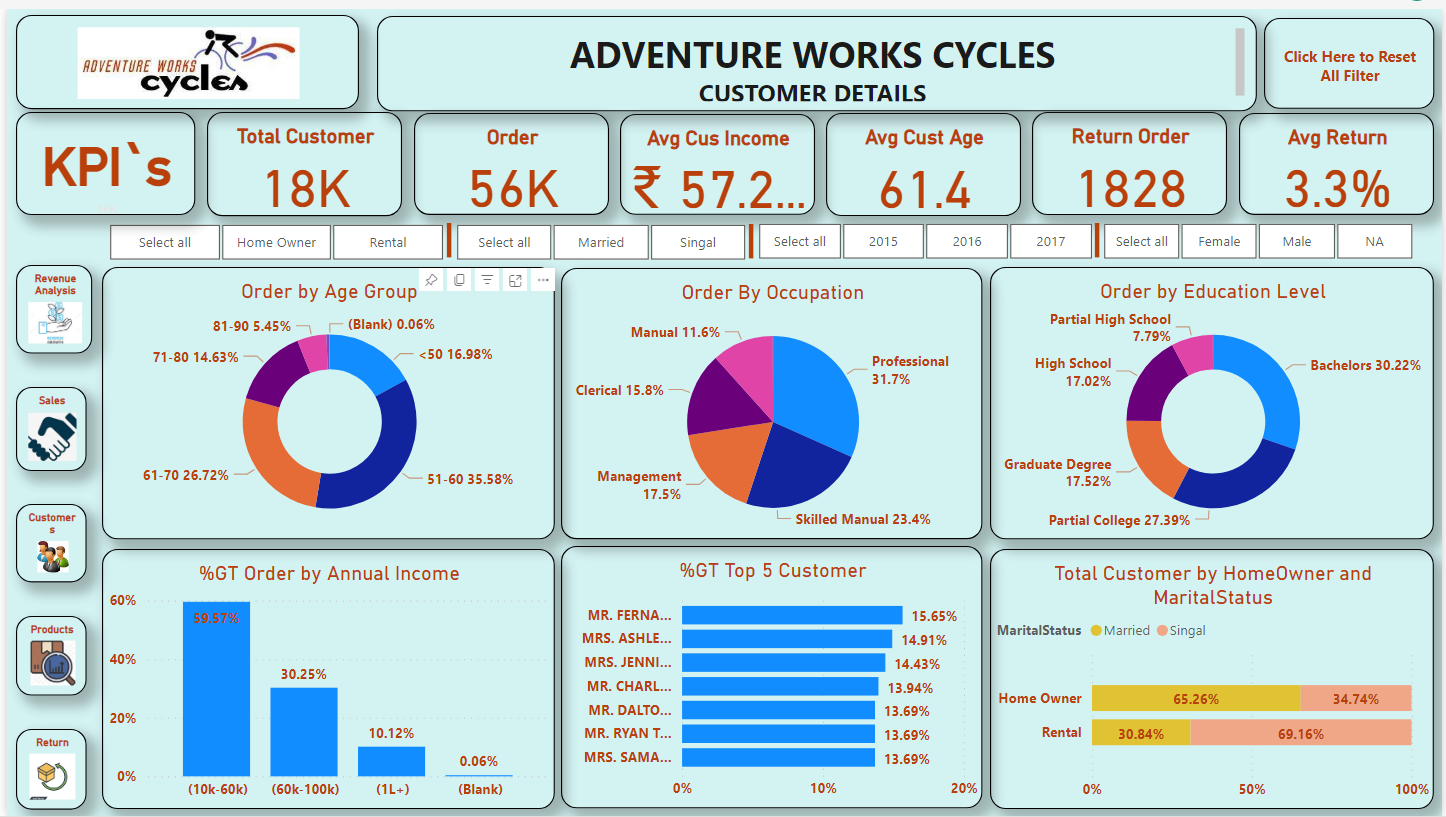

The dashboard page shown, as its layout file describes it:
{"tool":"powerbi","page":{"name":"Customer","canvas":[1280,720],"ordinal":2},"visuals":[{"type":"donutChart","title":"Order by Age Group","fields":{"Category":["Age Group.Age Group"],"Y":["All Measures.Total Order"]},"box":[85.2,230.2,404.2,242.7],"z":0},{"type":"image","title":"Products","box":[8.2,541.7,62.5,71.4],"z":1000},{"type":"card","title":"Avg Cust Age","fields":{"Values":["All Measures.Avg Cust Age"]},"box":[730.8,92.4,174,91.6],"z":2000},{"type":"pieChart","title":"Order By Occupation","fields":{"Y":["All Measures.Total Order"],"Category":["D_Customer.Occupation"]},"box":[494.3,231.2,376.5,241.7],"z":3000},{"type":"image","title":"Revenue Analysis","box":[8.2,228.7,68.5,79.2],"z":4000},{"type":"card","title":"Order","fields":{"Values":["All Measures.Total Order"]},"box":[362.7,92.9,174,91.1],"z":5000},{"type":"columnChart","title":"%GT Order by Annual Income","fields":{"Category":["D_Customer.Salary Status"],"Y":["All Measures.Total Order"]},"box":[85.2,481.4,404.2,231.8],"z":6000},{"type":"image","title":"Return","box":[8.2,642.5,63.2,72],"z":7000},{"type":"card","title":"Return Order","fields":{"Values":["All Measures.Return Order"]},"box":[914.9,92.1,174,92],"z":8000},{"type":"barChart","title":"%GT Top 5 Customer","fields":{"Y":["All Measures.Total Order"],"Category":["D_Customer.Full Name"]},"box":[494.3,479.4,376.5,233.8],"z":9000},{"type":"image","title":"Sales","box":[8.2,337.3,62.5,75.3],"z":10000},{"type":"card","title":"Avg Return","fields":{"Values":["All Measures.Avg Return"]},"box":[1098.9,92.9,174.4,91.1],"z":11000},{"type":"donutChart","title":"Order by Education Level","fields":{"Y":["All Measures.Total Order"],"Category":["D_Customer.EducationLevel"]},"box":[877,230.2,396.3,242.7],"z":12000},{"type":"image","title":"Customers","box":[8.2,441.9,62.5,70.4],"z":13000},{"type":"card","title":"Avg Cus Income","fields":{"Values":["All Measures.Avg Income"]},"box":[546.8,93.9,174,90.2],"z":14000},{"type":"actionButton","box":[1121.7,8.4,151.6,81.2],"z":15000},{"type":"card","title":"Total Customer","fields":{"Values":["All Measures.Total Customer"]},"box":[178.7,91.5,174,92.6],"z":16000},{"type":"hundredPercentStackedBarChart","fields":{"Y":["All Measures.Total Customer"],"Category":["D_Customer.HomeOwner"],"Series":["D_Customer.MaritalStatus"]},"box":[877,481.4,396.3,231.8],"z":17000},{"type":"textbox","box":[330.4,5.8,785.3,84.6],"z":18000},{"type":"slicer","fields":{"Values":["D_Customer.MaritalStatus"]},"box":[375.5,185.3,307.1,44.6],"z":19000},{"type":"slicer","fields":{"Values":["D_Customer.HomeOwner"]},"box":[66.4,185.3,346.7,44.6],"z":20000},{"type":"slicer","fields":{"Values":["D_Customer.Gender"]},"box":[953.1,184.3,325,44.6],"z":21000},{"type":"slicer","fields":{"Values":["D_Calender.Year"]},"box":[645,184.3,346.7,44.6],"z":22000},{"type":"image","box":[8.2,5.4,306.2,84.2],"z":23000},{"type":"shape","box":[375.5,191.2,37.6,30.7],"z":24000},{"type":"shape","box":[954.1,191.2,37.6,30.7],"z":25000},{"type":"shape","box":[645,192.2,37.6,30.7],"z":26000},{"type":"card","title":"KPI`s","fields":{"Values":["All Measures.Total Order"]},"box":[8.2,91.9,160.5,92.1],"z":27000}]}

Visuals, with their boxes in screenshot pixels (x1, y1, x2, y2), scaled from the page's 1280x720 canvas onto the 1446x817 screenshot:
"Order by Age Group" donutChart: <region>96, 261, 553, 537</region>
"Products" image: <region>9, 615, 80, 696</region>
"Avg Cust Age" card: <region>826, 105, 1022, 209</region>
"Order By Occupation" pieChart: <region>558, 262, 984, 537</region>
"Revenue Analysis" image: <region>9, 260, 87, 349</region>
"Order" card: <region>410, 105, 606, 209</region>
"%GT Order by Annual Income" columnChart: <region>96, 546, 553, 809</region>
"Return" image: <region>9, 729, 81, 811</region>
"Return Order" card: <region>1034, 105, 1230, 209</region>
"%GT Top 5 Customer" barChart: <region>558, 544, 984, 809</region>
"Sales" image: <region>9, 383, 80, 468</region>
"Avg Return" card: <region>1241, 105, 1438, 209</region>
"Order by Education Level" donutChart: <region>991, 261, 1438, 537</region>
"Customers" image: <region>9, 501, 80, 581</region>
"Avg Cus Income" card: <region>618, 107, 814, 209</region>
actionButton: <region>1267, 10, 1438, 102</region>
"Total Customer" card: <region>202, 104, 398, 209</region>
hundredPercentStackedBarChart - All Measures.Total Customer x D_Customer.HomeOwner: <region>991, 546, 1438, 809</region>
textbox: <region>373, 7, 1260, 103</region>
slicer - D_Customer.MaritalStatus: <region>424, 210, 771, 261</region>
slicer - D_Customer.HomeOwner: <region>75, 210, 467, 261</region>
slicer - D_Customer.Gender: <region>1077, 209, 1444, 260</region>
slicer - D_Calender.Year: <region>729, 209, 1120, 260</region>
image: <region>9, 6, 355, 102</region>
shape: <region>424, 217, 467, 252</region>
shape: <region>1078, 217, 1120, 252</region>
shape: <region>729, 218, 771, 253</region>
"KPI`s" card: <region>9, 104, 191, 209</region>
